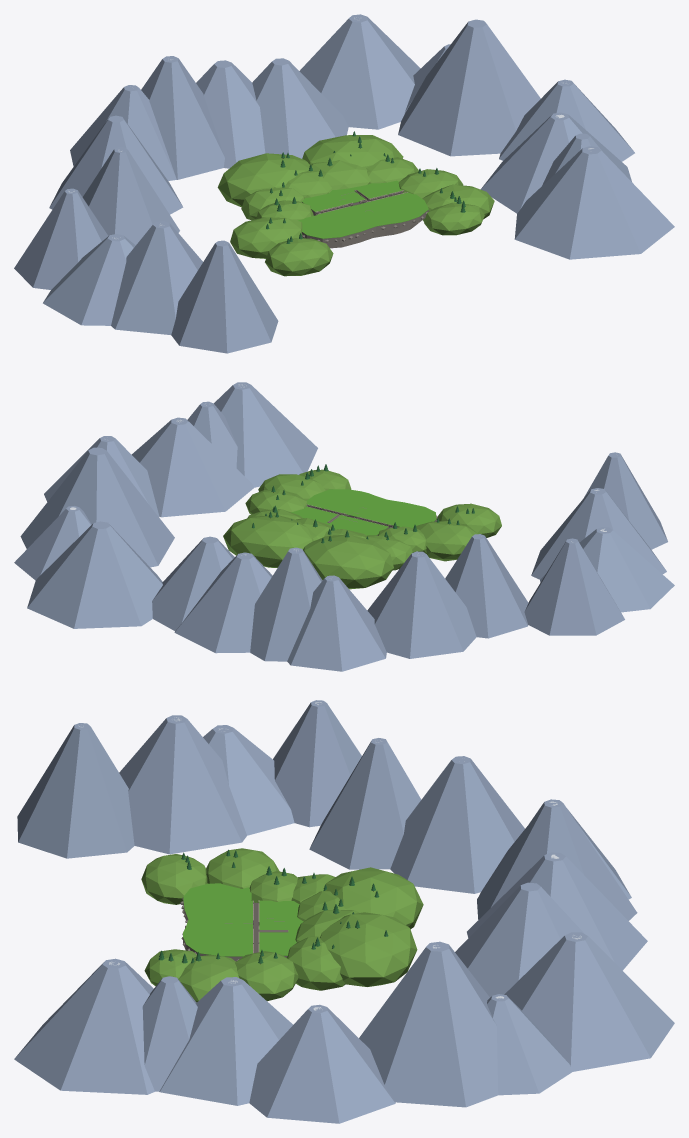
Rendered from LOBBY_VM_02_TERRAIN_6c3d02.fbx.
The picture shows the model from 3 angles, top to bottom: view 1: azimuth 30°, elevation 25°; view 2: azimuth 150°, elevation 25°; view 3: azimuth 270°, elevation 25°; orthographic projection. The views are drawn at different scales.
Parts seen in each view (by area): view 1: VM_Bg_Mountains__Cliff_VM_Far, VM_Ter_Hills__Grass_VM_Hill, VM_Ter_Ground__Grass_VM, VM_Ter_Cliffs__Cliff_VM_Rock, VM_Ter_Hills__Leaf_VM_Pine; view 2: VM_Bg_Mountains__Cliff_VM_Far, VM_Ter_Hills__Grass_VM_Hill, VM_Ter_Ground__Grass_VM, VM_Ter_Hills__Leaf_VM_Pine; view 3: VM_Bg_Mountains__Cliff_VM_Far, VM_Ter_Hills__Grass_VM_Hill, VM_Ter_Ground__Grass_VM, VM_Ter_Hills__Leaf_VM_Pine.
Boxes of the visible parts, <box> form: VM_Bg_Mountains__Cliff_VM_Far: <box>14,14,674,353</box>; VM_Ter_Hills__Grass_VM_Hill: <box>217,135,494,276</box>; VM_Ter_Ground__Grass_VM: <box>298,180,428,238</box>; VM_Ter_Cliffs__Cliff_VM_Rock: <box>302,211,428,248</box>; VM_Ter_Hills__Leaf_VM_Pine: <box>266,131,465,243</box>; VM_Bg_Mountains__Cliff_VM_Far: <box>14,382,674,671</box>; VM_Ter_Hills__Grass_VM_Hill: <box>223,469,501,589</box>; VM_Ter_Ground__Grass_VM: <box>291,489,436,535</box>; VM_Ter_Hills__Leaf_VM_Pine: <box>252,464,474,543</box>; VM_Bg_Mountains__Cliff_VM_Far: <box>14,700,674,1123</box>; VM_Ter_Hills__Grass_VM_Hill: <box>141,848,423,1002</box>; VM_Ter_Ground__Grass_VM: <box>183,883,303,956</box>; VM_Ter_Hills__Leaf_VM_Pine: <box>158,849,388,963</box>.
Bounding box in the file's own units: 1919 × 313 × 1495.
